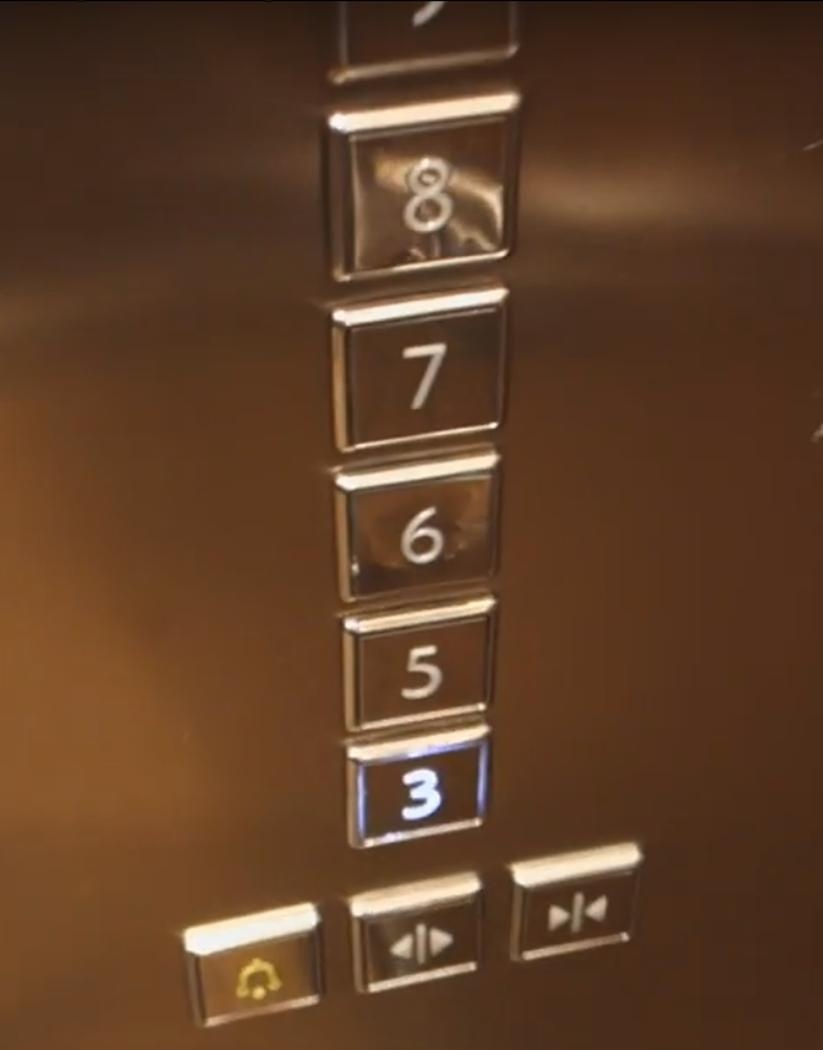3: (347, 725, 491, 847)
5: (345, 588, 500, 732)
6: (336, 447, 502, 607)
7: (333, 277, 517, 453)
8: (320, 87, 529, 289)
alarm: (181, 902, 324, 1028)
close: (502, 840, 642, 964)
open: (346, 871, 483, 1009)
